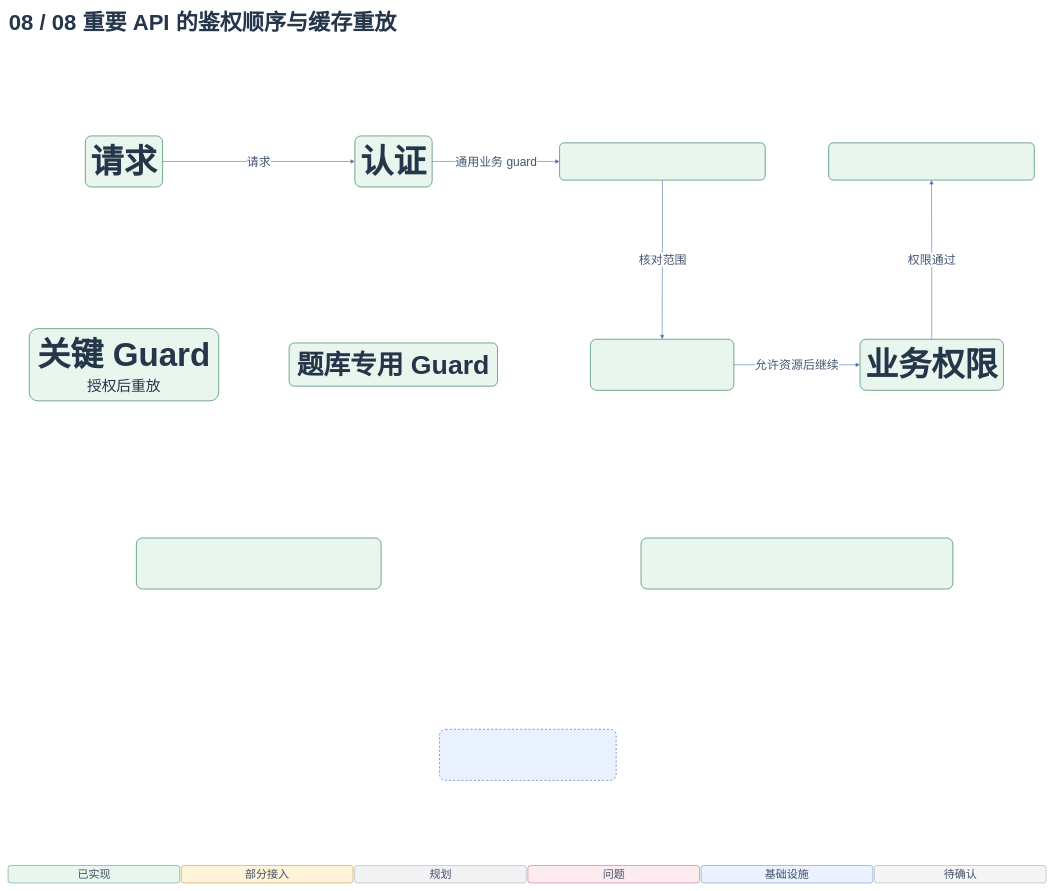
This 1056x891 diagram has some shape labels left out. The centre of each missing label's shape, as x and y in pixels:
Worker Capability: the point at 796,563
授权后处理命令回执: the point at 931,161
旧回执失效: the point at 527,755
认证后校验对象范围: the point at 662,161
资源范围: the point at 662,364
近期认证 / 助手: the point at 258,563
